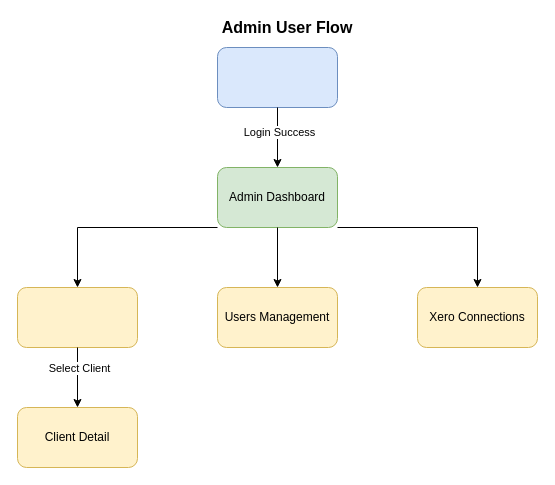
The diagram is 555 pixels wide and 485 high, and some of its shapes have lost their labels. Each missing label, with the centre of its shape:
Clients List: (77,317)
Login Page: (277,77)
